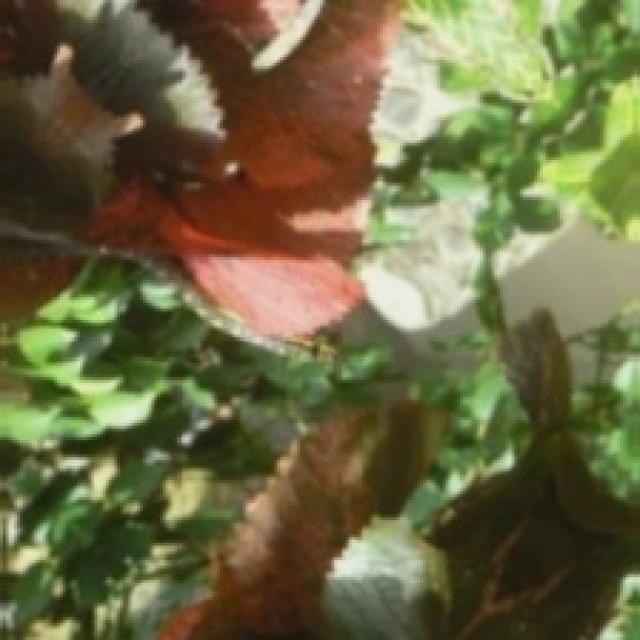paradise tree snake: (0, 0, 397, 343)
